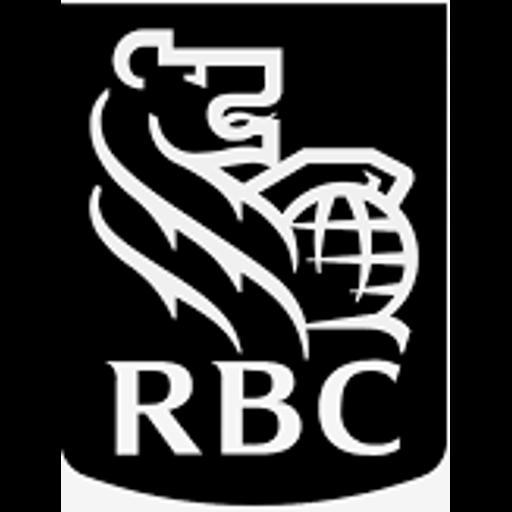RBC Royal Bank: (61, 0, 450, 512)
